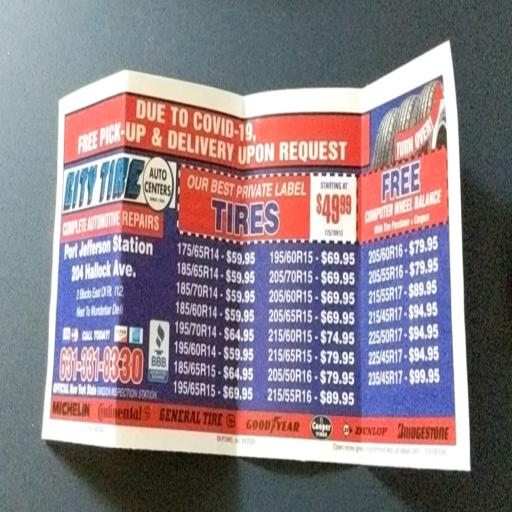paper: (8, 4, 512, 512)
